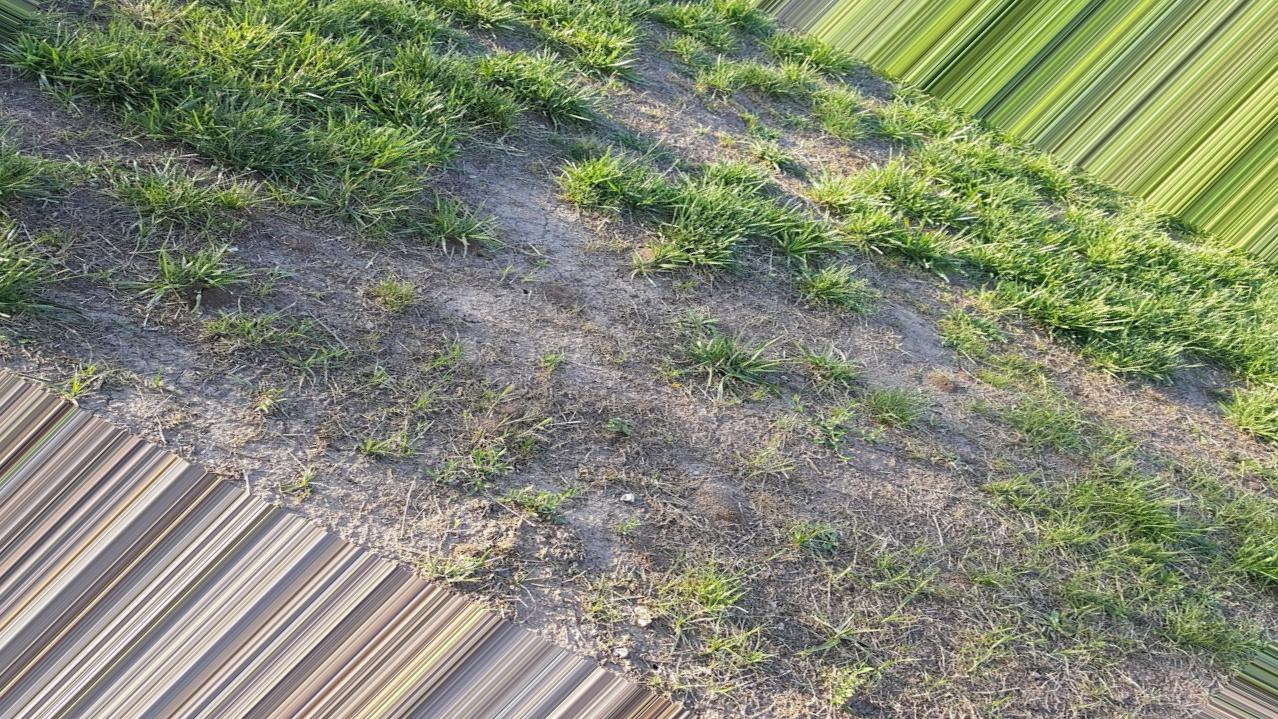patch: (569, 461, 775, 603), (460, 287, 671, 394), (828, 454, 989, 566), (866, 299, 973, 427), (279, 240, 388, 346), (1103, 378, 1229, 467), (471, 158, 566, 248), (661, 77, 739, 159)
